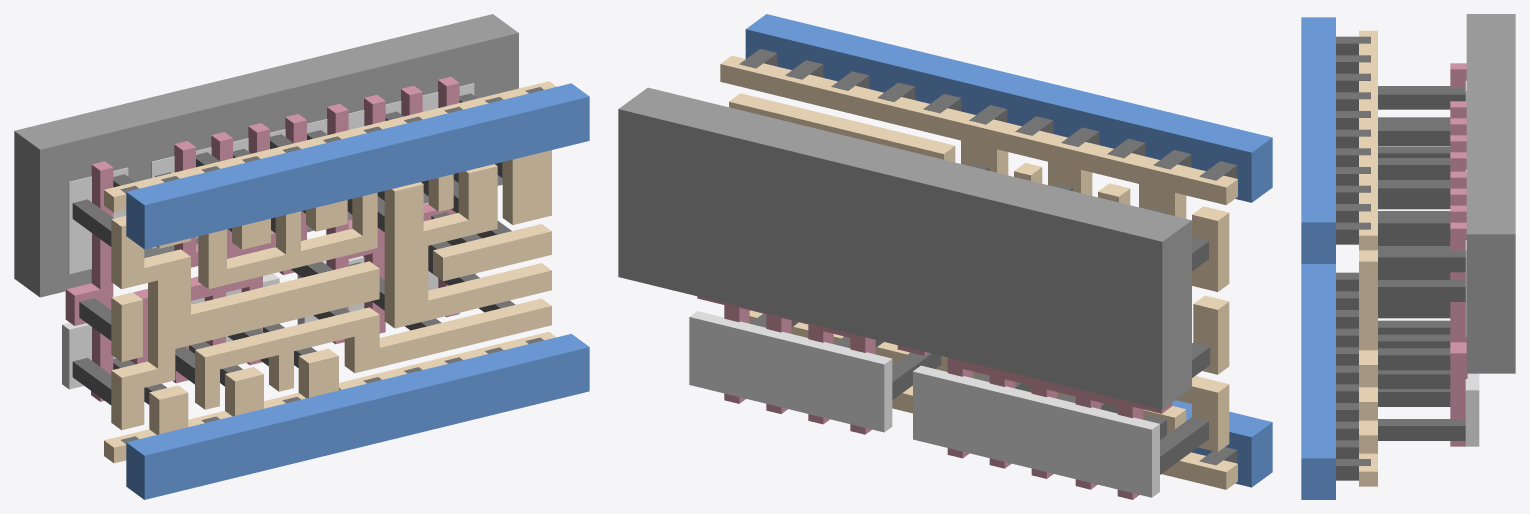
The model's file is sky130_fd_sc_hd__einvp_4.gds.gltf.
3 views of the same model, side by side, from view 1: azimuth 30°, elevation 25°; view 2: azimuth 150°, elevation 25°; view 3: azimuth 270°, elevation 25° (orthographic). The views are drawn at different scales.
Visible parts, largest first — view 1: sky130_fd_sc_hd__einvp_4_li1, sky130_fd_sc_hd__einvp_4_met1, sky130_fd_sc_hd__einvp_4_nwell, sky130_fd_sc_hd__einvp_4_poly, sky130_fd_sc_hd__einvp_4_licon, sky130_fd_sc_hd__einvp_4_diff, sky130_fd_sc_hd__einvp_4_mcon; view 2: sky130_fd_sc_hd__einvp_4_nwell, sky130_fd_sc_hd__einvp_4_diff, sky130_fd_sc_hd__einvp_4_li1, sky130_fd_sc_hd__einvp_4_met1, sky130_fd_sc_hd__einvp_4_poly, sky130_fd_sc_hd__einvp_4_mcon, sky130_fd_sc_hd__einvp_4_licon; view 3: sky130_fd_sc_hd__einvp_4_licon, sky130_fd_sc_hd__einvp_4_nwell, sky130_fd_sc_hd__einvp_4_met1, sky130_fd_sc_hd__einvp_4_mcon, sky130_fd_sc_hd__einvp_4_li1, sky130_fd_sc_hd__einvp_4_poly, sky130_fd_sc_hd__einvp_4_diff.
Part boxes in pixels (x1=…): sky130_fd_sc_hd__einvp_4_li1: x1=104, y1=81, x2=556, y2=463; sky130_fd_sc_hd__einvp_4_met1: x1=126, y1=83, x2=589, y2=499; sky130_fd_sc_hd__einvp_4_nwell: x1=14, y1=14, x2=518, y2=297; sky130_fd_sc_hd__einvp_4_poly: x1=65, y1=76, x2=459, y2=401; sky130_fd_sc_hd__einvp_4_licon: x1=72, y1=93, x2=515, y2=404; sky130_fd_sc_hd__einvp_4_diff: x1=62, y1=83, x2=476, y2=389; sky130_fd_sc_hd__einvp_4_mcon: x1=120, y1=87, x2=543, y2=443; sky130_fd_sc_hd__einvp_4_nwell: x1=618, y1=87, x2=1191, y2=409; sky130_fd_sc_hd__einvp_4_diff: x1=689, y1=311, x2=1159, y2=497; sky130_fd_sc_hd__einvp_4_li1: x1=720, y1=55, x2=1237, y2=489; sky130_fd_sc_hd__einvp_4_met1: x1=745, y1=14, x2=1272, y2=487; sky130_fd_sc_hd__einvp_4_poly: x1=697, y1=296, x2=1172, y2=499; sky130_fd_sc_hd__einvp_4_mcon: x1=739, y1=49, x2=1237, y2=465; sky130_fd_sc_hd__einvp_4_licon: x1=750, y1=163, x2=1210, y2=474; sky130_fd_sc_hd__einvp_4_licon: x1=1378, y1=86, x2=1465, y2=440; sky130_fd_sc_hd__einvp_4_nwell: x1=1466, y1=14, x2=1515, y2=373; sky130_fd_sc_hd__einvp_4_met1: x1=1301, y1=17, x2=1335, y2=499; sky130_fd_sc_hd__einvp_4_mcon: x1=1336, y1=36, x2=1370, y2=480; sky130_fd_sc_hd__einvp_4_li1: x1=1359, y1=30, x2=1377, y2=486; sky130_fd_sc_hd__einvp_4_poly: x1=1450, y1=63, x2=1467, y2=446; sky130_fd_sc_hd__einvp_4_diff: x1=1465, y1=80, x2=1479, y2=446.
Size of the model in its own units: 5.44 by 3.2 by 2.24.
